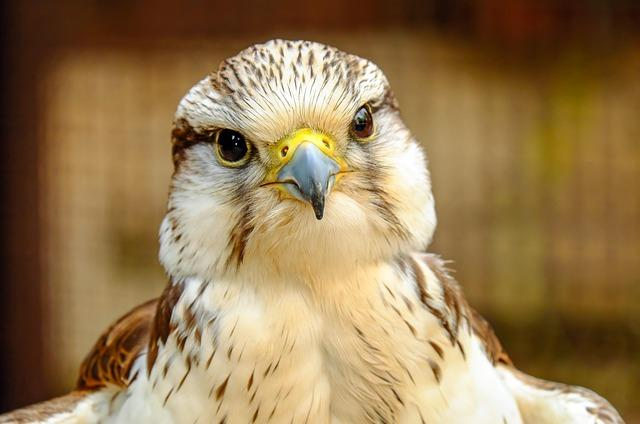Non_Gorille: (70, 8, 560, 418)
